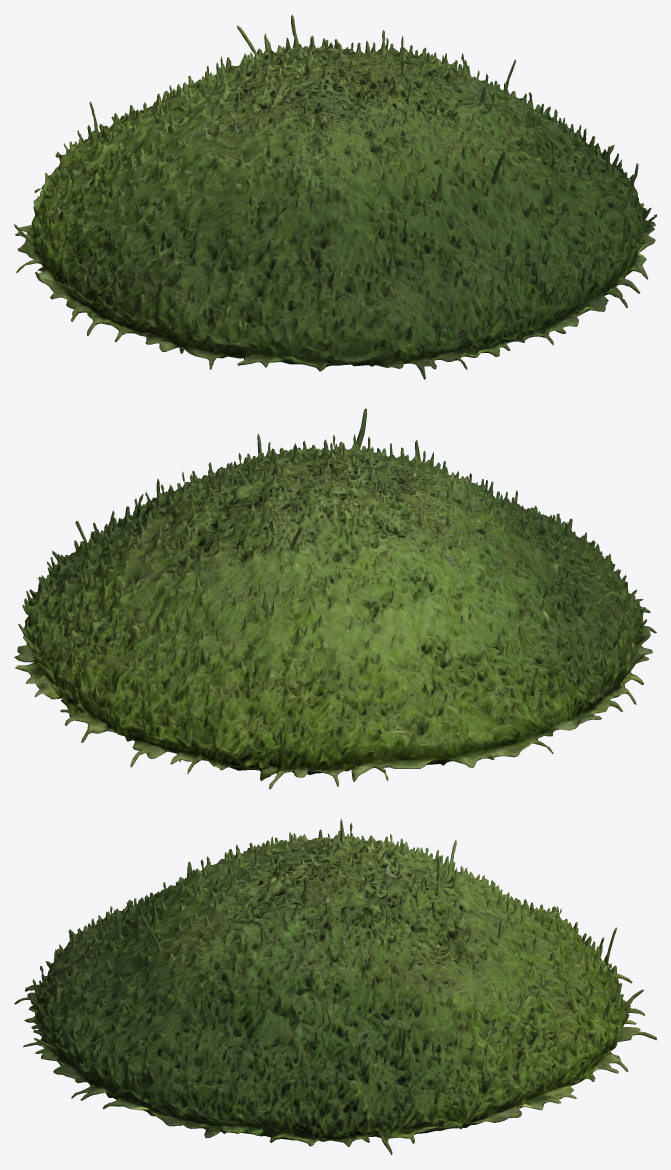
File: nature-hill.glb
3 renders of one model, top to bottom at view 1: azimuth 30°, elevation 25°; view 2: azimuth 150°, elevation 25°; view 3: azimuth 270°, elevation 25°, orthographic. The views are drawn at different scales.
Parts seen in each view (by area): view 1: tripo_node_7e5251e2-b7fc-4e0e-8b83-5b6a59e179f3; view 2: tripo_node_7e5251e2-b7fc-4e0e-8b83-5b6a59e179f3; view 3: tripo_node_7e5251e2-b7fc-4e0e-8b83-5b6a59e179f3.
Part boxes in pixels (bbox=[...]): tripo_node_7e5251e2-b7fc-4e0e-8b83-5b6a59e179f3: bbox=[14, 14, 656, 379]; tripo_node_7e5251e2-b7fc-4e0e-8b83-5b6a59e179f3: bbox=[14, 408, 656, 789]; tripo_node_7e5251e2-b7fc-4e0e-8b83-5b6a59e179f3: bbox=[14, 819, 656, 1154].
Bounding box in the file's own units: 24.24 × 8 × 25.54.
1 material, 1 textured.
